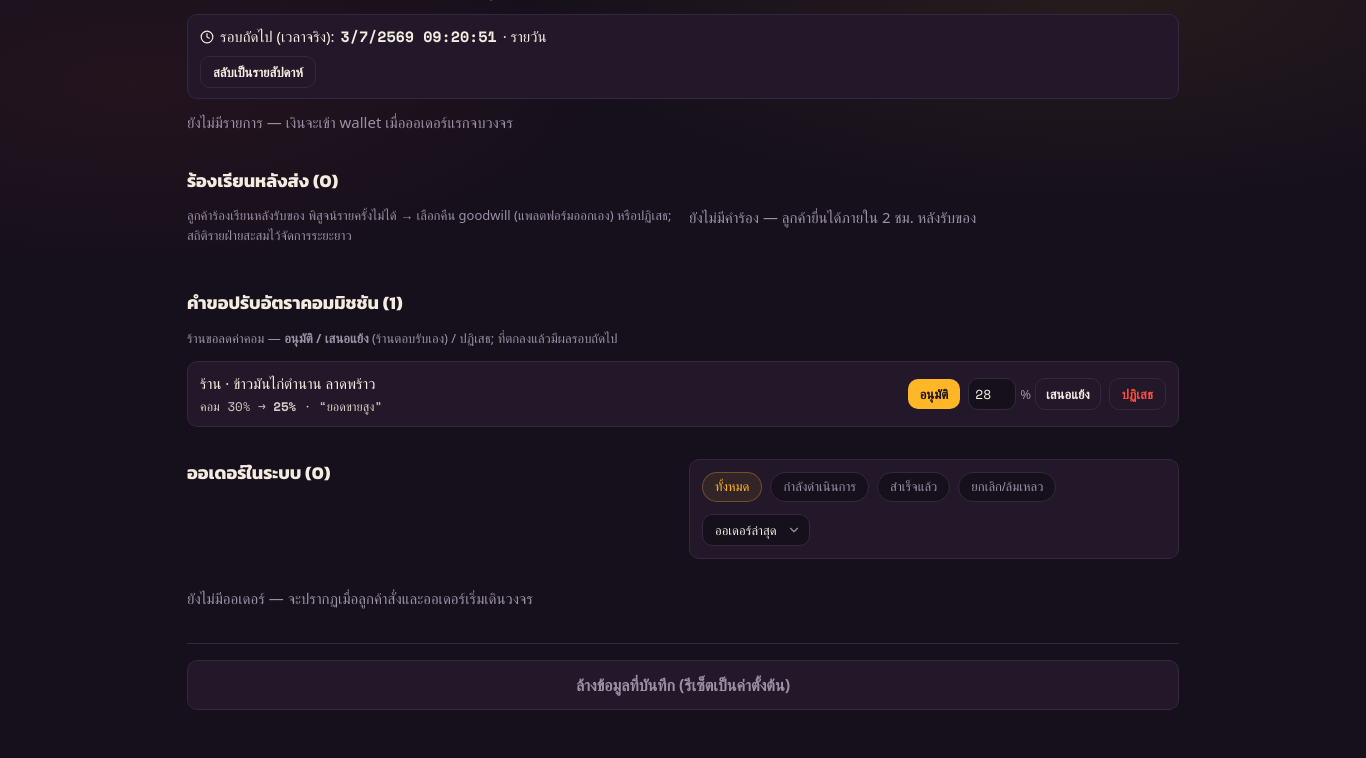
Test case: Admin — หลายออเดอร์ + suspend + force-cancel › เจรจาอัตราคอม (ADR 0003): แอดมินอนุมัติคำขอ → ปิดเป็น "อนุมัติแล้ว"
(page scrolled)
Check: the text "คอม 30% → 25% · “ยอดขายสูง”" is shown, box x1=200 y1=397 x2=382 y2=416
Step 1. Click the button with aria-label "อนุมัติคำขอ" → point(934, 394), box x1=908 y1=379 x2=960 y2=409
(page scrolled)
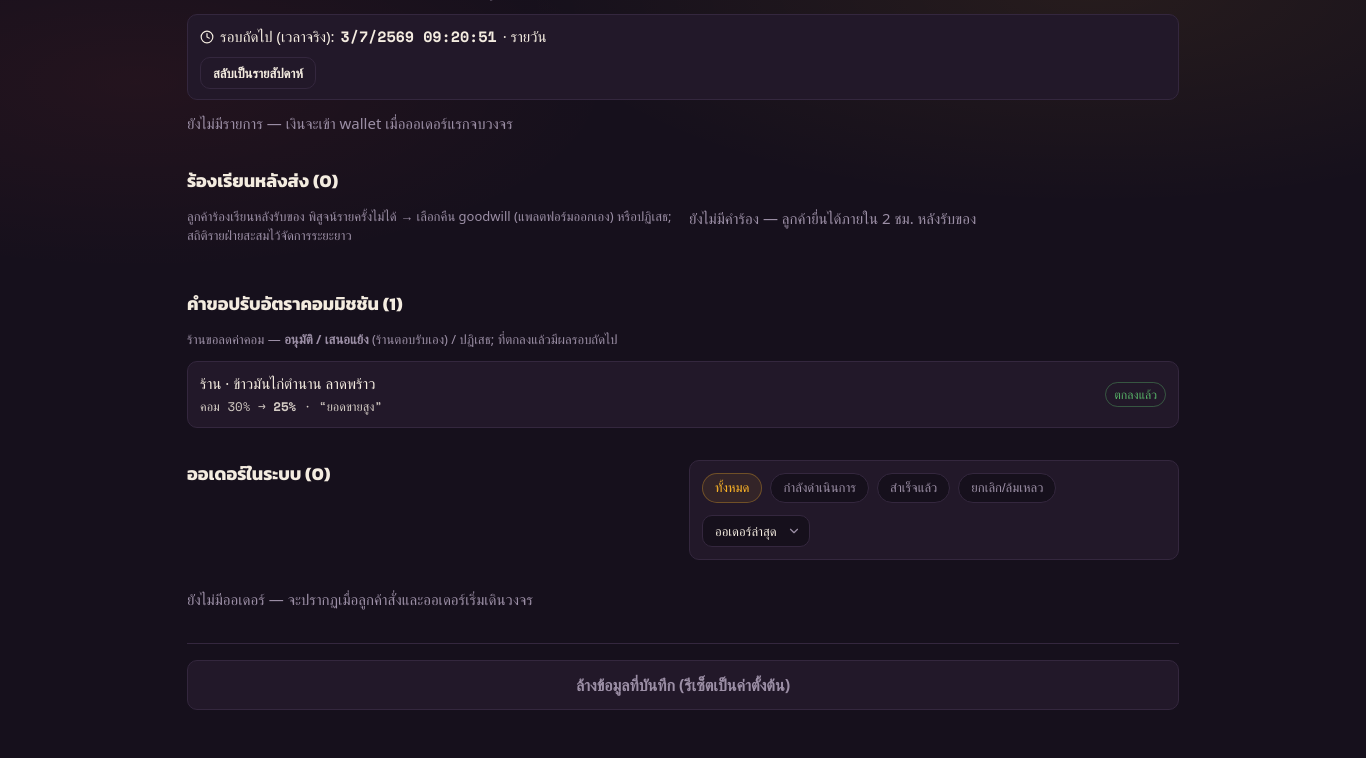
Check: the text "ตกลงแล้ว" is shown, box x1=1105 y1=382 x2=1166 y2=407
